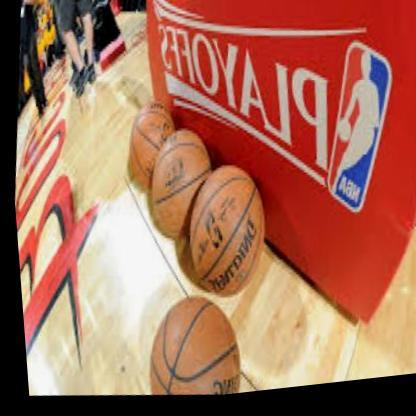basketball: (174, 163, 272, 307), (135, 290, 243, 404), (140, 126, 217, 247), (119, 100, 179, 198)
